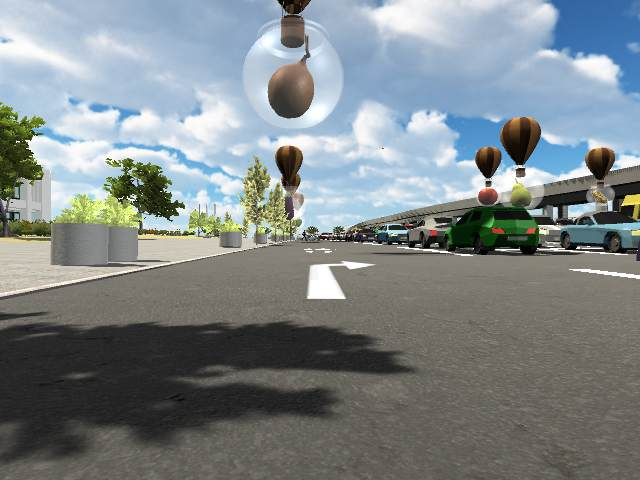ground_right: (305, 257, 383, 273)
